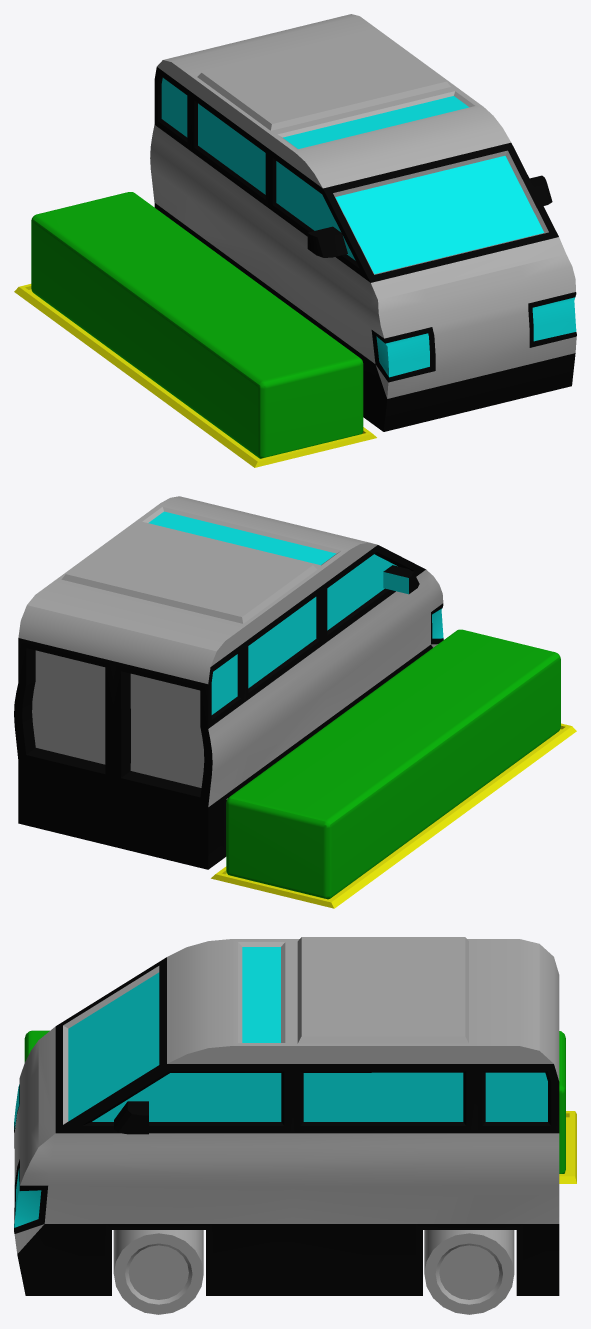
Rendered from Level01_Additions.fbx.
3 renders of one model, top to bottom at view 1: azimuth 30°, elevation 25°; view 2: azimuth 150°, elevation 25°; view 3: azimuth 270°, elevation 25°, orthographic. The views are drawn at different scales.
Parts seen in each view (by area): view 1: Level1_0003:Van1, Level1_0003:pCube6, Level1_0003:pCube5; view 2: Level1_0003:Van1, Level1_0003:pCube6, Level1_0003:pCube5; view 3: Level1_0003:Van1, Level1_0003:pCube6, Level1_0003:pCube5.
Part boxes in pixels (x1=…): Level1_0003:Van1: x1=150, y1=14, x2=576, y2=431; Level1_0003:pCube6: x1=31, y1=192, x2=363, y2=458; Level1_0003:pCube5: x1=14, y1=284, x2=376, y2=467; Level1_0003:Van1: x1=14, y1=496, x2=443, y2=869; Level1_0003:pCube6: x1=226, y1=629, x2=560, y2=899; Level1_0003:pCube5: x1=211, y1=723, x2=576, y2=908; Level1_0003:Van1: x1=14, y1=937, x2=559, y2=1314; Level1_0003:pCube6: x1=24, y1=1030, x2=565, y2=1173; Level1_0003:pCube5: x1=559, y1=1111, x2=576, y2=1183.
Size of the model in its own units: 9.76 by 6.37 by 11.87.
